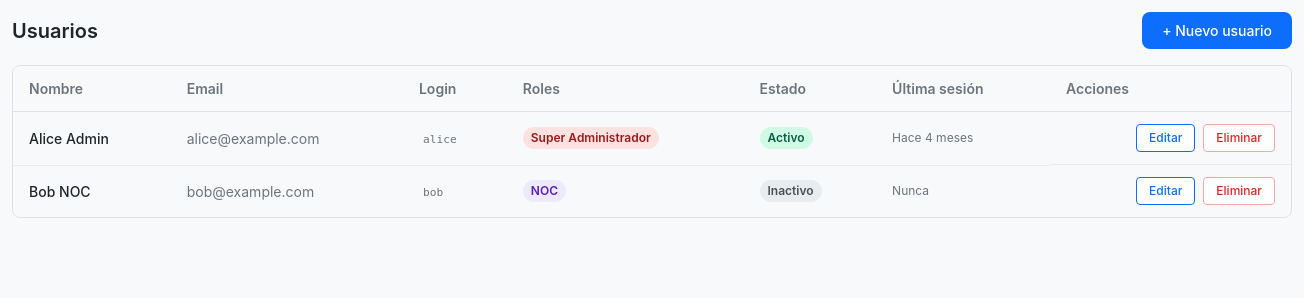
Scenario: RbacUsersBody › shows error when delete returns CANNOT_REMOVE_LAST_SUPER_ADMIN
Step 1. Click the button "Eliminar" in the row of "Alice Admin" → (1239, 138), box [1203,124,1275,152]
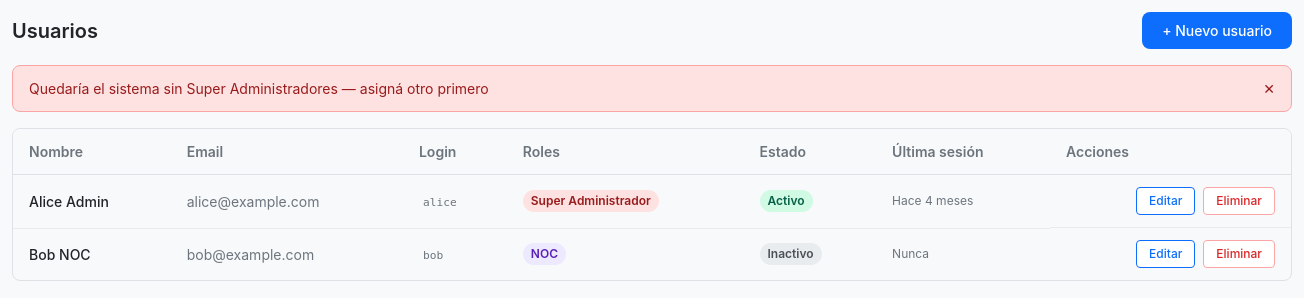
Expected: the text "Quedaría el sistema sin Super Administradores — asigná otro primero ✕" is shown, [12,65,1292,112]
